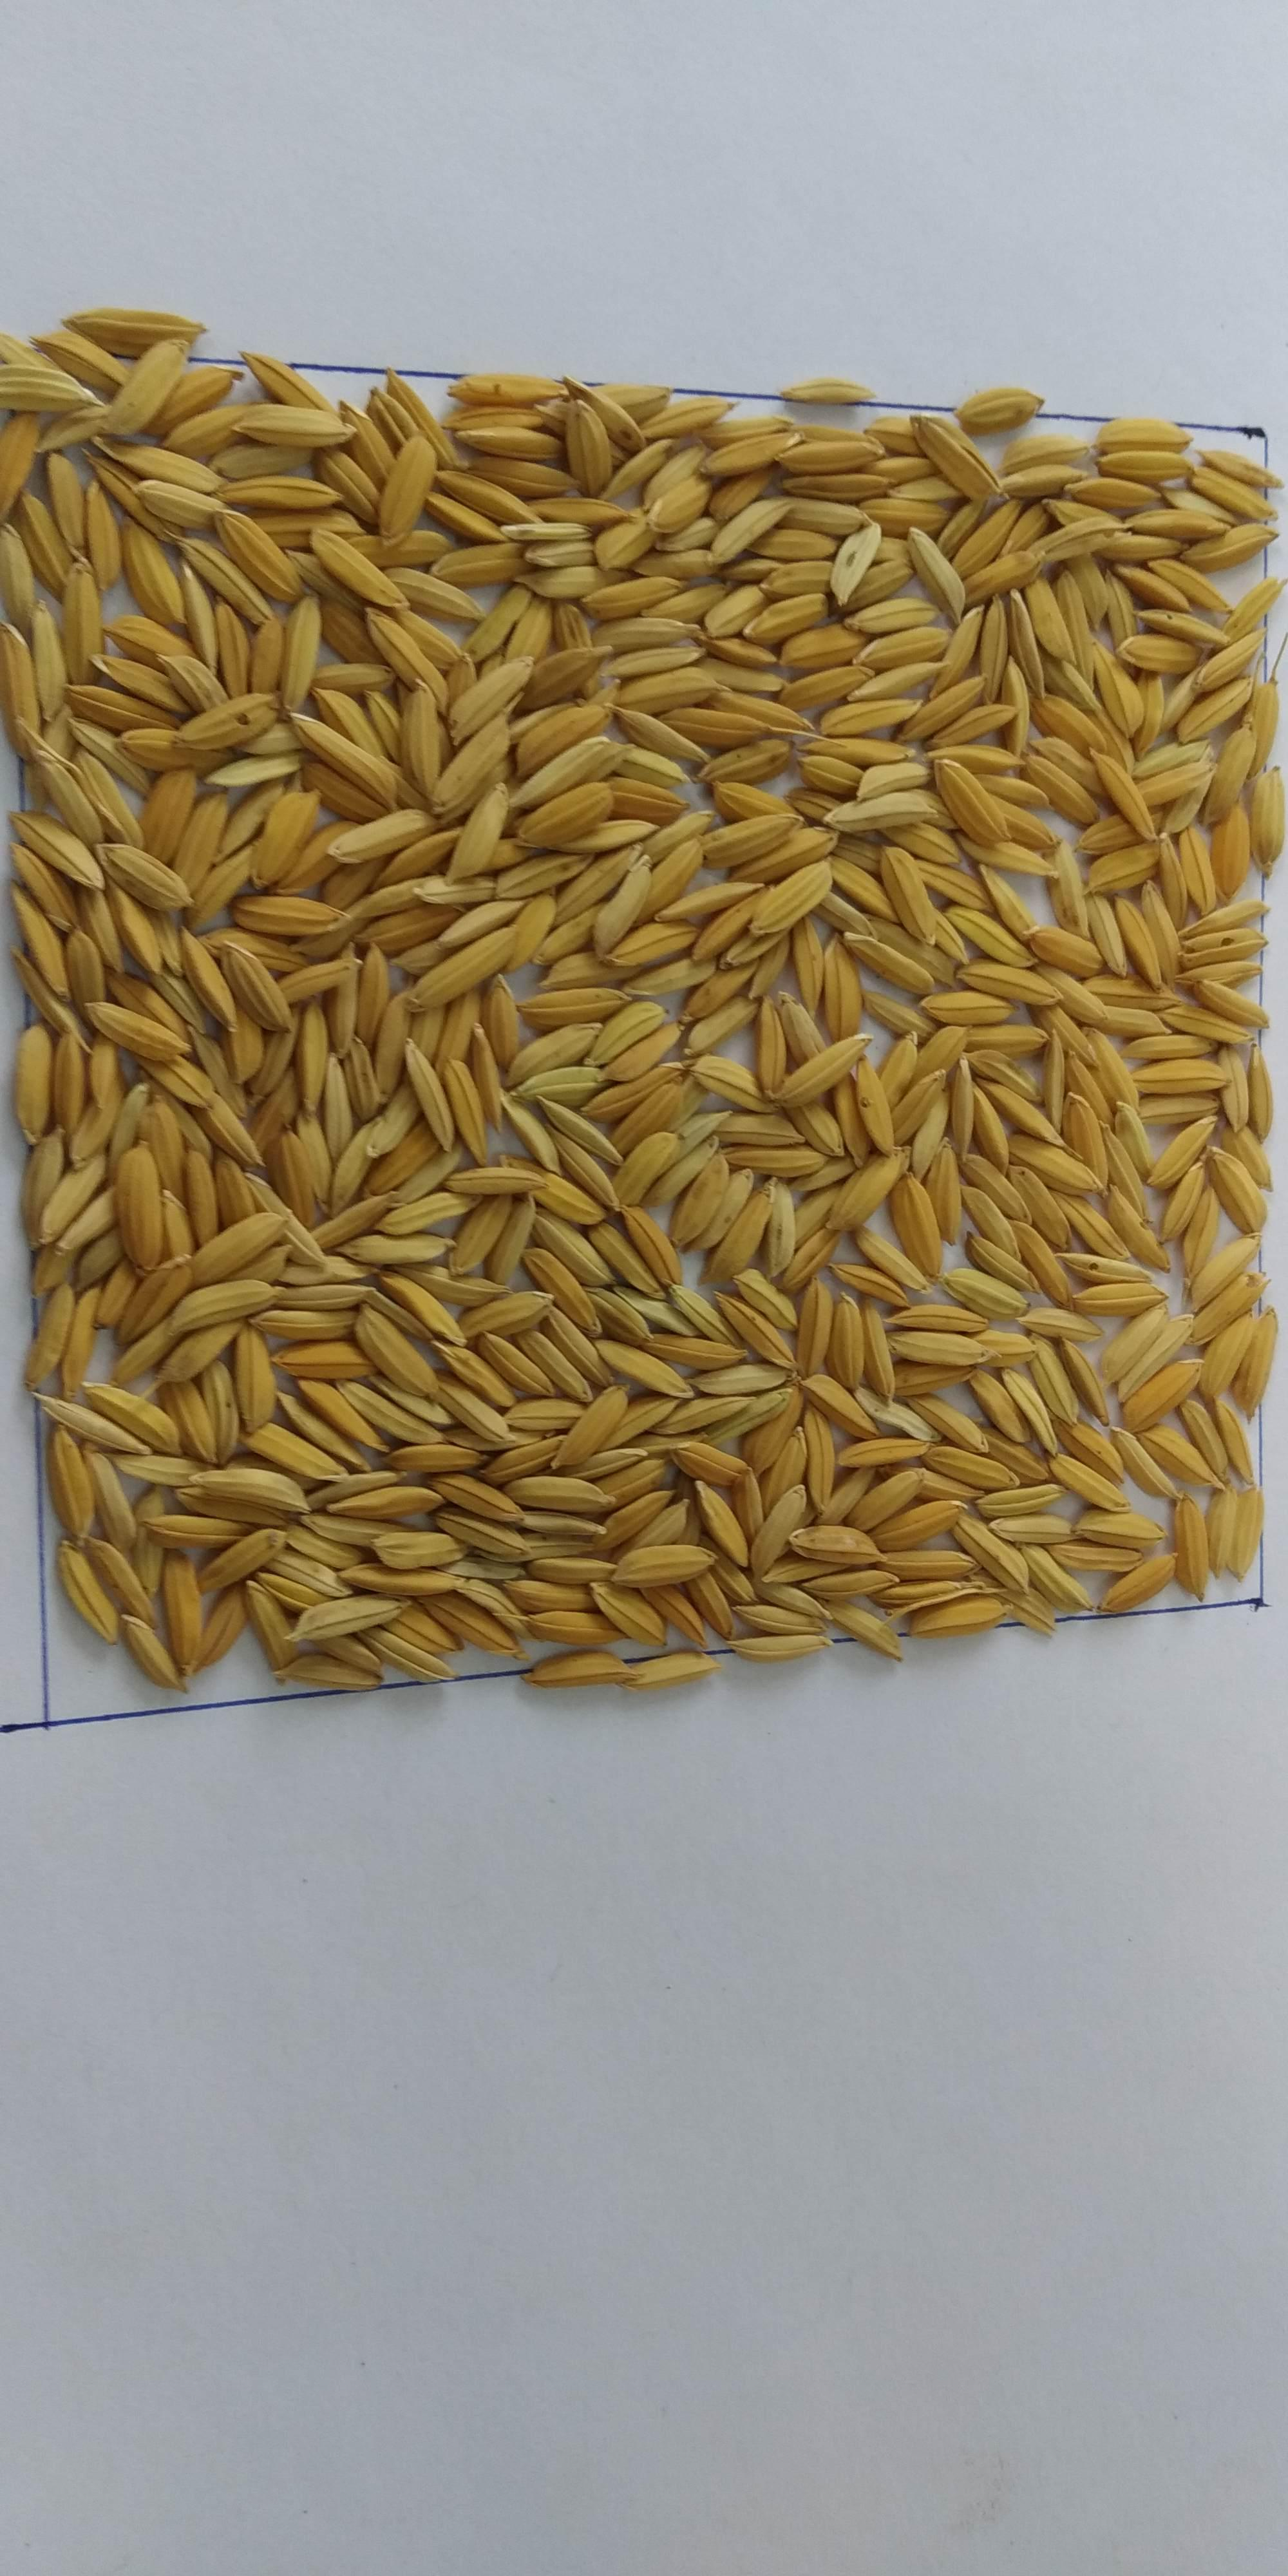pure: (53, 361, 1288, 1682)
